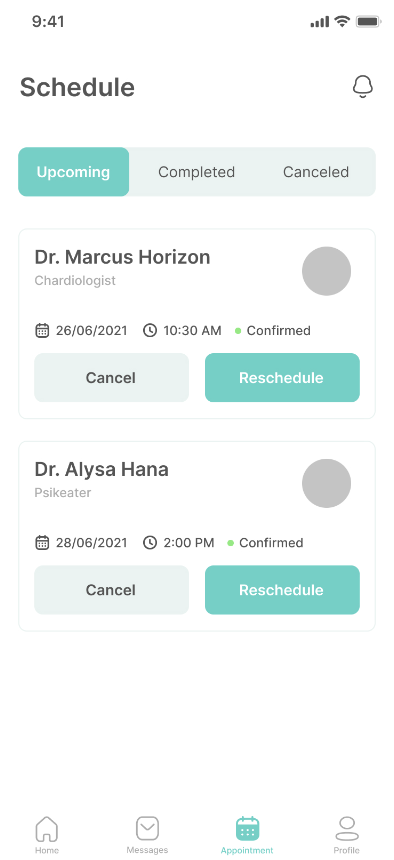AppBar: (1, 30, 394, 102)
